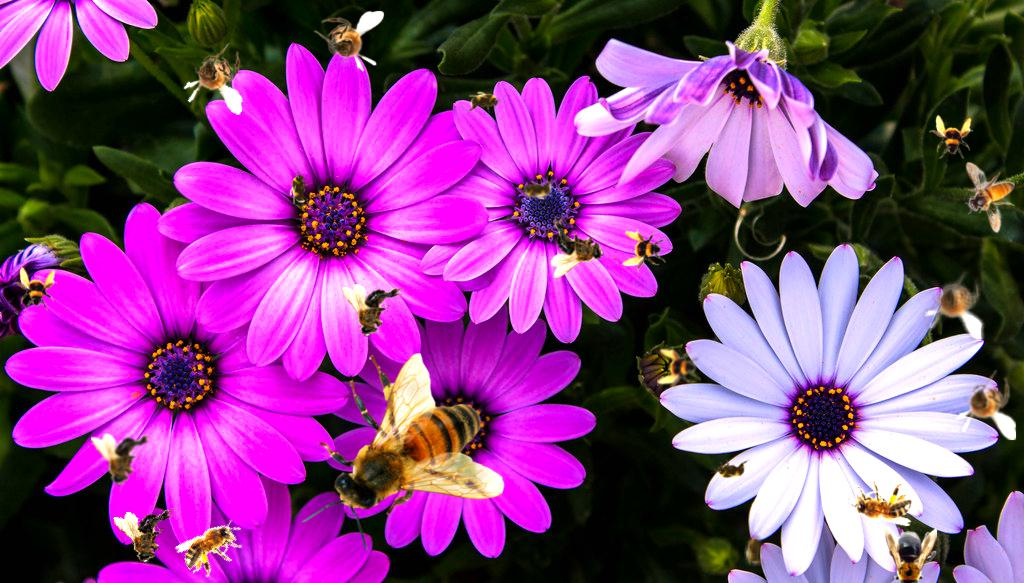Bee: (301, 353, 505, 552), (173, 508, 253, 583), (180, 39, 249, 115), (921, 266, 988, 342), (112, 504, 183, 568), (955, 370, 1016, 440), (314, 11, 384, 72), (91, 430, 156, 488), (965, 162, 1015, 233), (551, 216, 604, 278), (342, 284, 404, 337), (846, 481, 912, 526), (885, 527, 937, 583), (657, 347, 701, 391), (929, 115, 973, 159), (622, 229, 666, 273), (13, 267, 57, 311), (742, 529, 768, 571), (517, 178, 557, 200), (289, 168, 311, 208), (465, 91, 505, 113), (711, 459, 751, 481)
